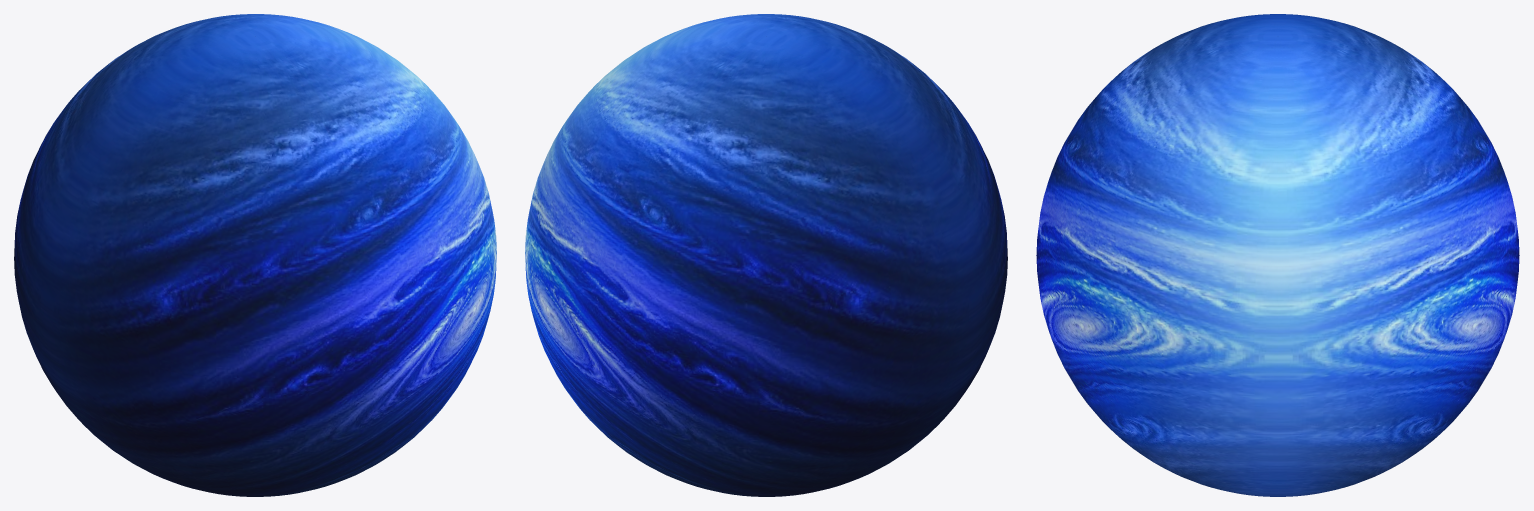
Rendered from spaces-sphere.glb.
The picture shows the model from 3 angles, left to right: view 1: azimuth 30°, elevation 25°; view 2: azimuth 150°, elevation 25°; view 3: azimuth 270°, elevation 25°; orthographic projection.
Visible parts, largest first — view 1: Sphere; view 2: Sphere; view 3: Sphere.
Boxes of the visible parts, x1=… form: Sphere: x1=14, y1=14, x2=496, y2=496; Sphere: x1=525, y1=14, x2=1007, y2=496; Sphere: x1=1036, y1=14, x2=1519, y2=496.
Size of the model in its own units: 3 by 3 by 3.
1 material, 1 textured.
